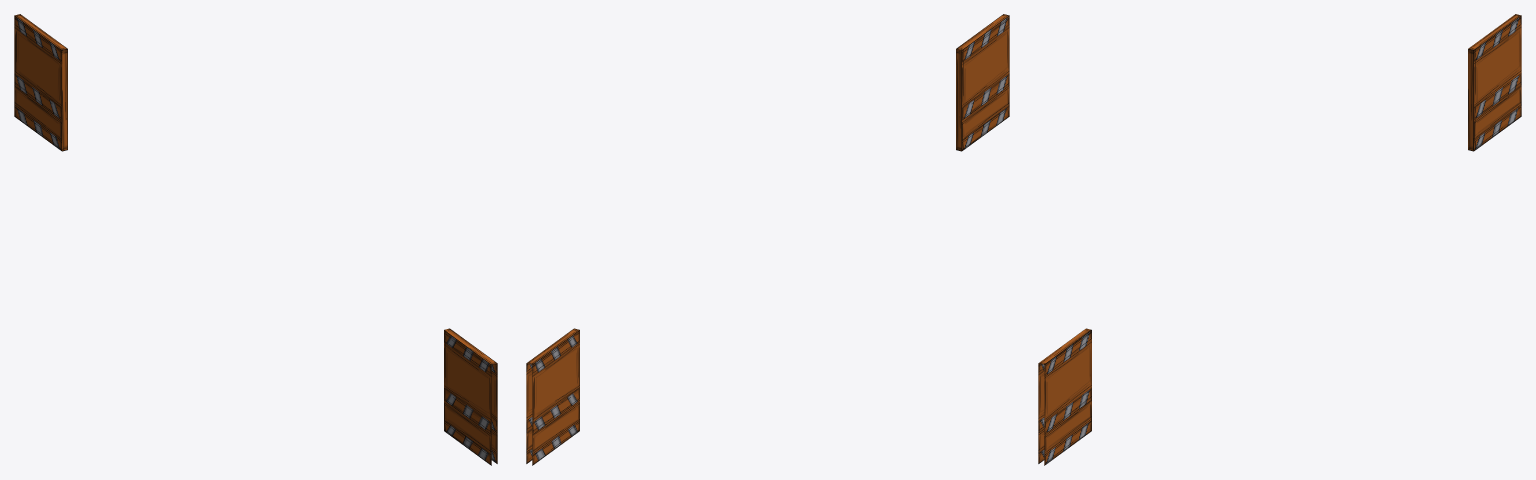
File: DividingWalls.fbx
3 views of the same model, side by side, from view 1: azimuth 30°, elevation 25°; view 2: azimuth 150°, elevation 25°; view 3: azimuth 330°, elevation 25° (orthographic).
Visible parts, largest first — view 1: DividingWalls; view 2: DividingWalls; view 3: DividingWalls.
Part boxes in pixels (x1,y1,x2,y2): DividingWalls: [14, 14, 497, 465]; DividingWalls: [526, 14, 1009, 465]; DividingWalls: [1038, 14, 1521, 465].
Bounding box in the file's own units: 14.27 × 228 × 1950.
